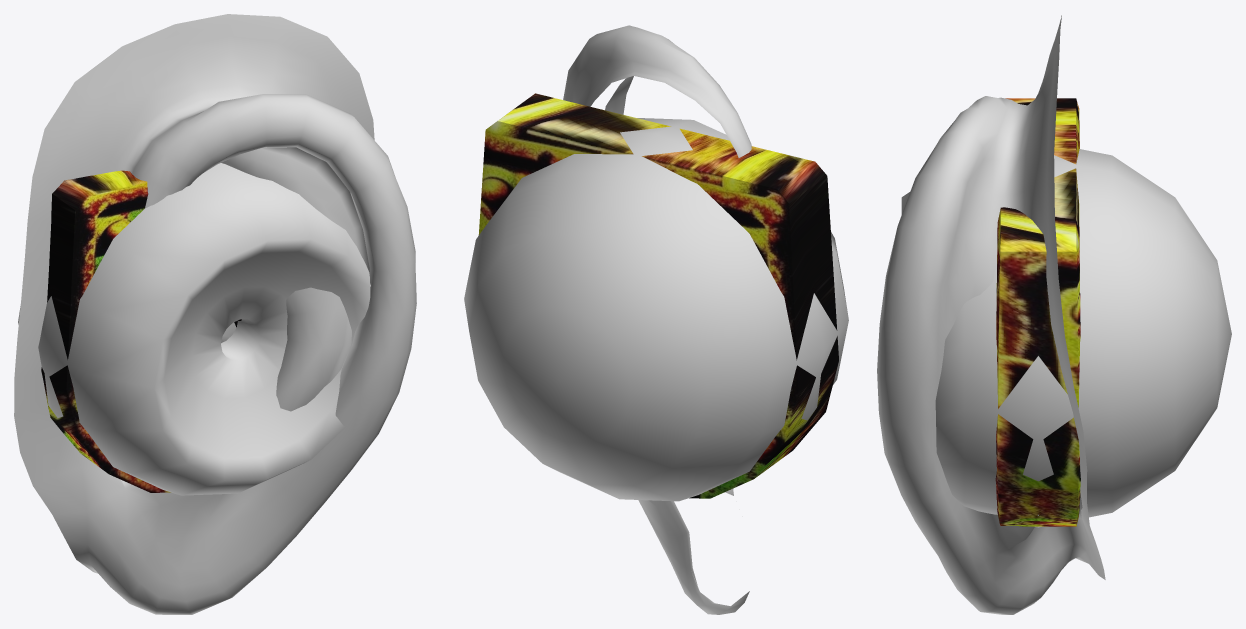
The picture shows the model from 3 angles, left to right: view 1: azimuth 30°, elevation 25°; view 2: azimuth 150°, elevation 25°; view 3: azimuth 270°, elevation 25°; orthographic projection. The views are drawn at different scales.
Parts seen in each view (by area): view 1: 1_oor, 2_oog, 3_lock; view 2: 2_oog, 3_lock, 1_oor; view 3: 2_oog, 1_oor, 3_lock.
Part boxes in pixels (<box>): 1_oor: <box>14,14,416,614</box>; 2_oog: <box>18,163,370,495</box>; 3_lock: <box>41,170,241,492</box>; 2_oog: <box>464,118,848,501</box>; 3_lock: <box>478,93,838,498</box>; 1_oor: <box>563,25,751,614</box>; 2_oog: <box>901,149,1231,527</box>; 1_oor: <box>877,15,1105,614</box>; 3_lock: <box>995,98,1080,526</box>.
Bounding box in the file's own units: 2.3 × 3.37 × 1.83.
Materials: 2 (1 with a texture image).
